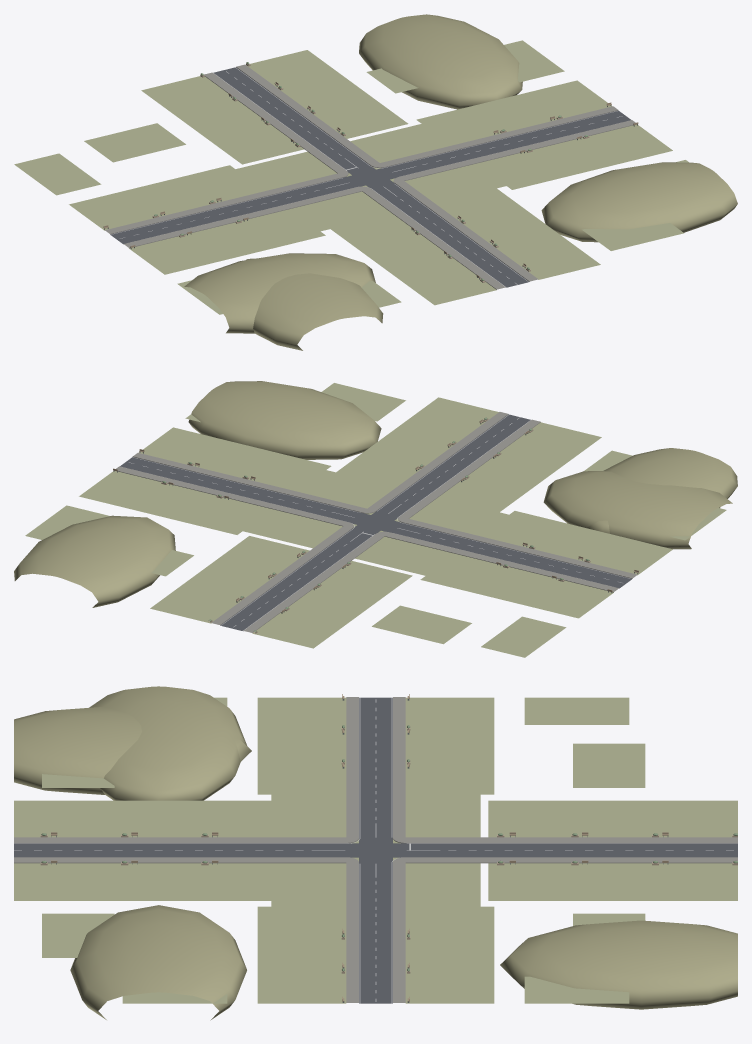
The picture shows the model from 3 angles, top to bottom: view 1: azimuth 30°, elevation 25°; view 2: azimuth 150°, elevation 25°; view 3: azimuth 270°, elevation 25°; orthographic projection. The views are drawn at different scales.
Visible parts, largest first — view 1: static; view 2: static; view 3: static.
Boxes of the visible parts, x1,y1,x2,y2 form: static: (14, 14, 737, 350); static: (14, 381, 737, 657); static: (14, 686, 737, 1020).
Size of what is drawn, in the model's own units: 180 by 14.08 by 180.
